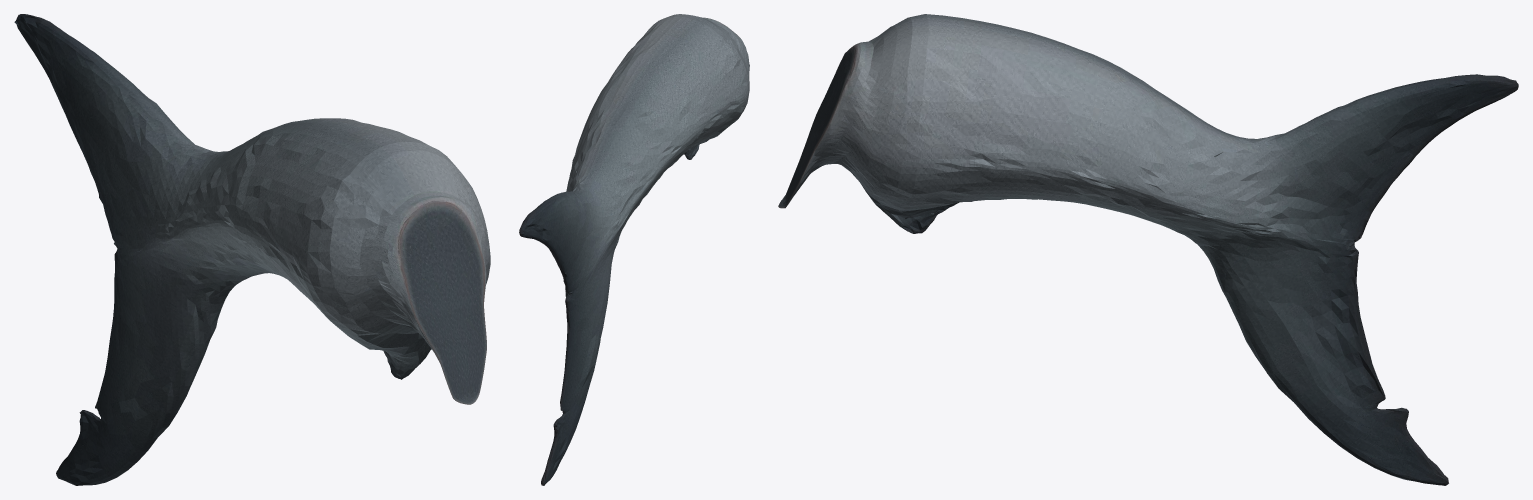
The model's file is ewm_sharktail.glb.
3 renders of one model, left to right at view 1: azimuth 30°, elevation 25°; view 2: azimuth 150°, elevation 25°; view 3: azimuth 270°, elevation 25°, orthographic. The views are drawn at different scales.
Visible parts, largest first — view 1: ewm_sharktail; view 2: ewm_sharktail; view 3: ewm_sharktail.
Boxes of the visible parts, x1,y1,x2,y2 form: ewm_sharktail: [14, 14, 490, 485]; ewm_sharktail: [519, 14, 749, 485]; ewm_sharktail: [778, 14, 1518, 485].
Size of the model in its own units: 0.1538 by 0.4496 by 0.62.
Materials: 1 (1 with a texture image).
